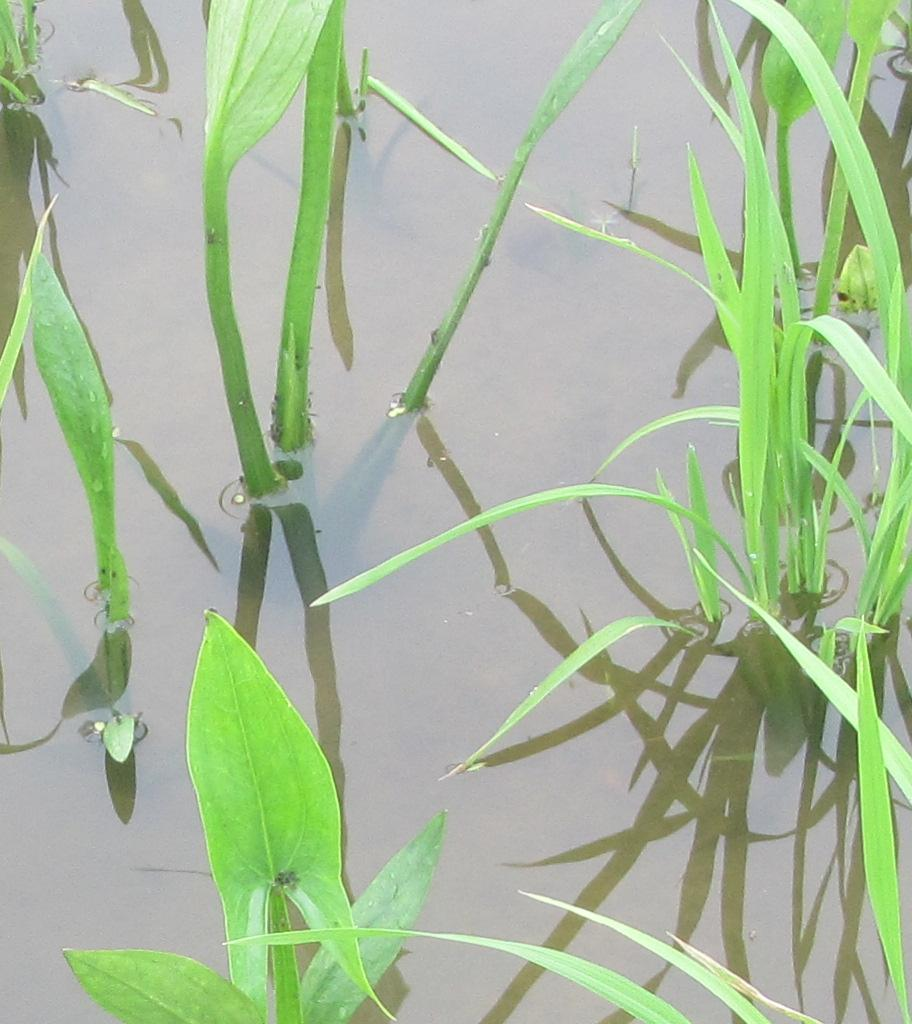Weed: (180, 591, 439, 1010), (191, 7, 344, 507), (27, 205, 149, 763)
